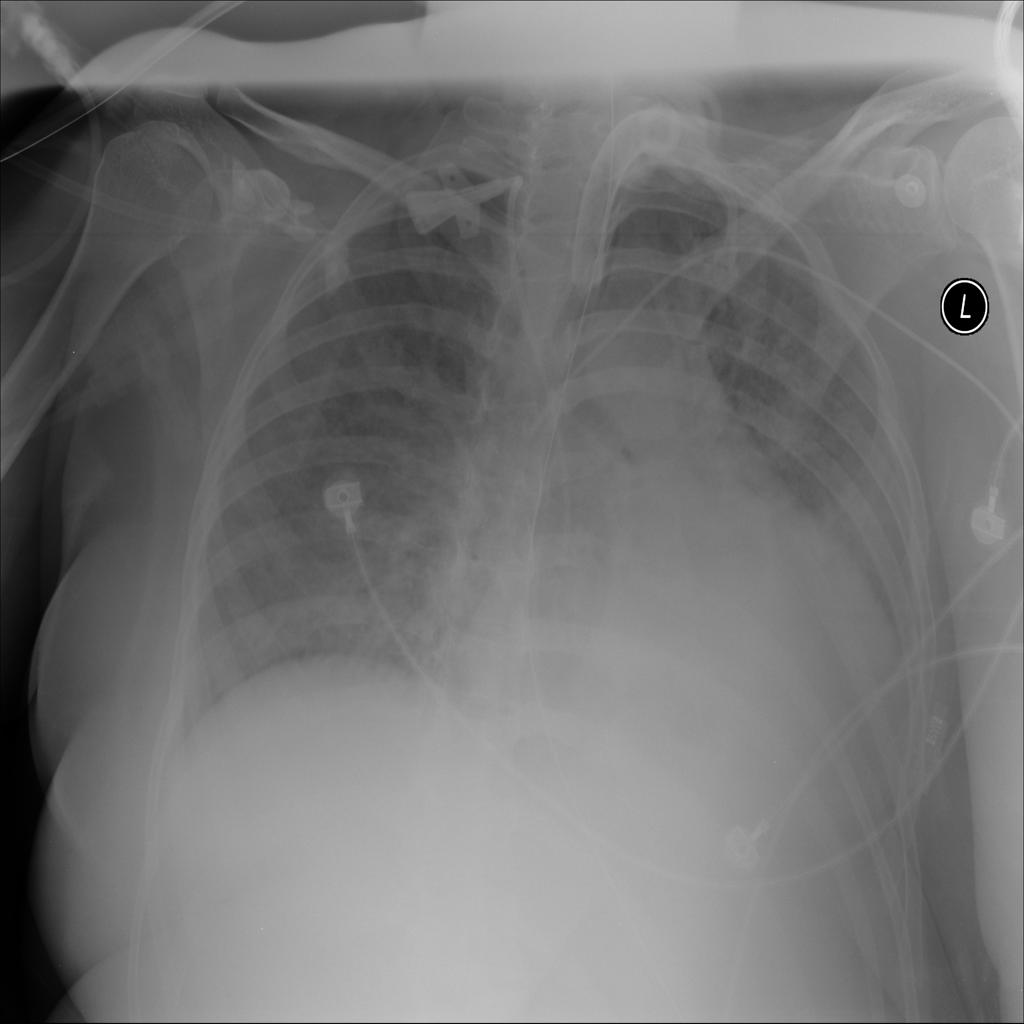Cardiomegaly: (481, 397, 910, 737)
